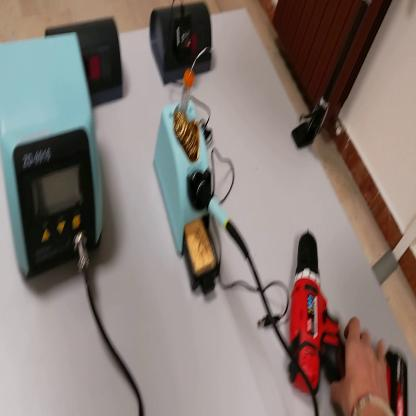electric screwdriver: (289, 227, 412, 416)
hand: (330, 315, 389, 414)
socket: (44, 16, 129, 109), (149, 1, 214, 87)
welder base: (152, 68, 226, 296)
welder probe tip: (195, 179, 252, 267)
welder station: (1, 29, 107, 289)
